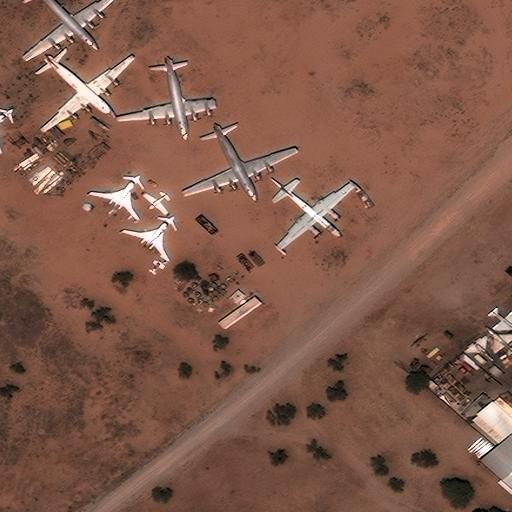Medium Civil Transport: (269, 177, 354, 248), (88, 174, 139, 220), (123, 216, 173, 261), (0, 108, 12, 153)
Military Fighter: (485, 326, 511, 353), (492, 309, 511, 334)
Military Transport: (115, 56, 221, 142), (184, 123, 298, 201), (43, 53, 135, 133), (26, 0, 118, 61)
Small Civil Transport: (142, 194, 167, 215)
